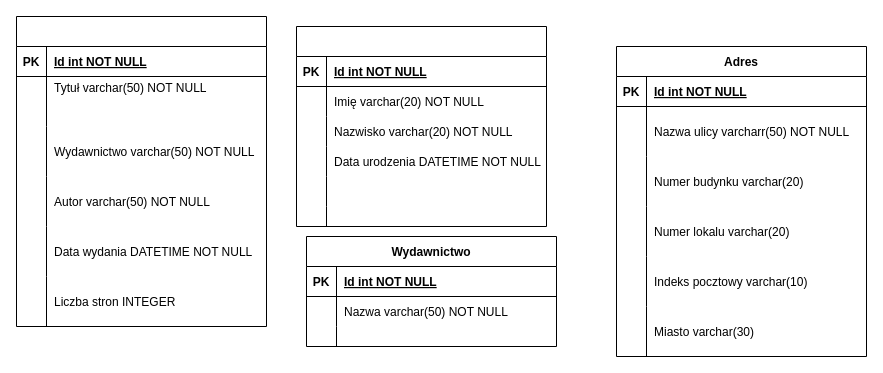
Some shapes in this 883 by 373 pixel diagram are drawn without their labels. The shapes that lost their labels are listed below. From the top down, each one's box as (x1, y1, x2, y2) in pixels, then its label:
(296, 26, 546, 226): Autor
(16, 16, 266, 326): Książka
